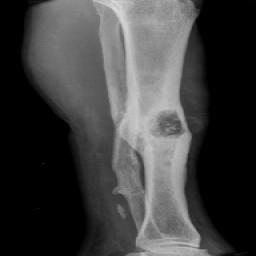cancer: (147, 109, 187, 141)
